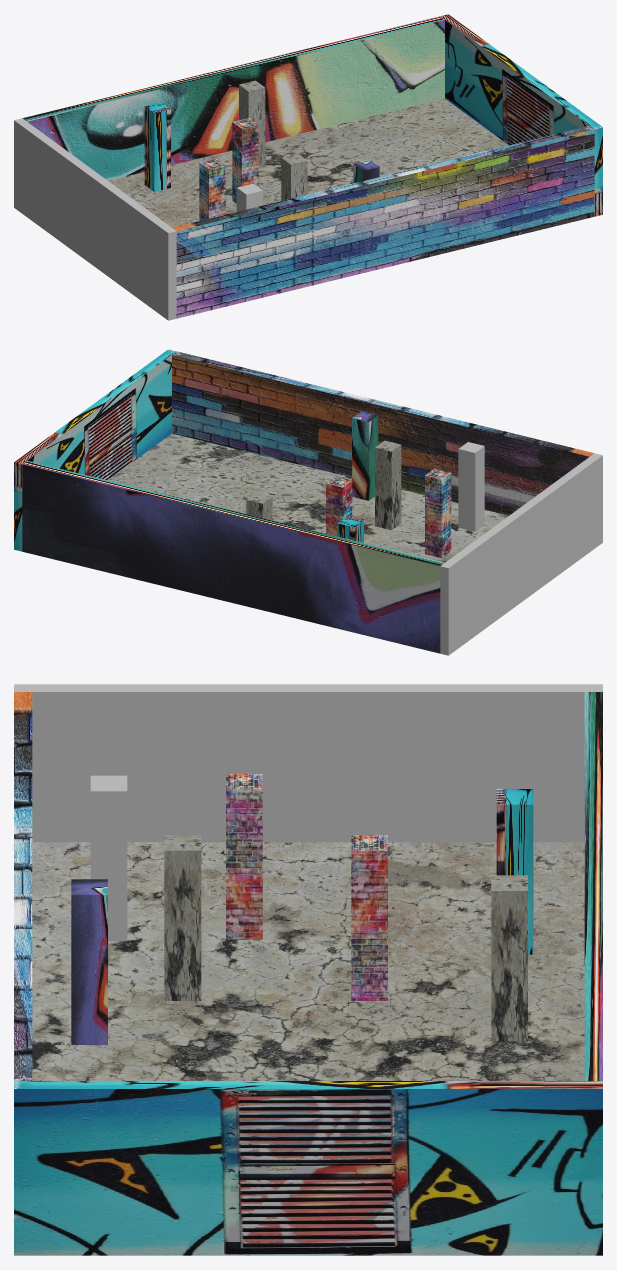
Rendered from arena_v1.dae.
3 views of the same model, one above another, from view 1: azimuth 30°, elevation 25°; view 2: azimuth 150°, elevation 25°; view 3: azimuth 270°, elevation 25° (orthographic). The views are drawn at different scales.
Parts seen in each view (by area): view 1: Cube.002, Cube.001, Cube, Cube.004, Cube.003, Cube.005, Cube.007, Cube.006, Cube.010, Cube.008, Cube.011, Cube.009; view 2: Cube.001, Cube.002, Cube.004, Cube, Cube.003, Cube.011, Cube.008, Cube.006, Cube.009, Cube.007, Cube.010, Cube.005; view 3: Cube.003, Cube, Cube.004, Cube.002, Cube.001, Cube.008, Cube.010, Cube.009, Cube.007, Cube.006, Cube.011, Cube.005.
Part boxes in pixels (bbox=[...]): Cube.002: bbox=[172, 126, 594, 318]; Cube.001: bbox=[22, 16, 444, 180]; Cube: bbox=[108, 98, 508, 227]; Cube.004: bbox=[14, 118, 176, 320]; Cube.003: bbox=[440, 14, 602, 216]; Cube.005: bbox=[144, 102, 170, 191]; Cube.007: bbox=[232, 118, 258, 203]; Cube.006: bbox=[199, 158, 225, 220]; Cube.010: bbox=[239, 80, 265, 167]; Cube.008: bbox=[281, 154, 307, 200]; Cube.011: bbox=[236, 183, 263, 211]; Cube.009: bbox=[353, 160, 379, 183]; Cube.001: bbox=[22, 461, 444, 653]; Cube.002: bbox=[172, 351, 594, 515]; Cube.004: bbox=[440, 453, 602, 655]; Cube: bbox=[108, 433, 508, 562]; Cube.003: bbox=[14, 349, 176, 551]; Cube.011: bbox=[458, 442, 484, 531]; Cube.008: bbox=[375, 440, 401, 530]; Cube.006: bbox=[425, 468, 451, 557]; Cube.009: bbox=[352, 411, 378, 500]; Cube.007: bbox=[326, 476, 352, 536]; Cube.010: bbox=[246, 493, 272, 520]; Cube.005: bbox=[337, 516, 363, 542]; Cube.003: bbox=[14, 1081, 602, 1255]; Cube: bbox=[32, 842, 584, 1080]; Cube.004: bbox=[14, 684, 602, 842]; Cube.002: bbox=[14, 692, 32, 1080]; Cube.001: bbox=[584, 692, 602, 1080]; Cube.008: bbox=[164, 835, 201, 1000]; Cube.010: bbox=[491, 875, 527, 1040]; Cube.009: bbox=[71, 879, 107, 1044]; Cube.007: bbox=[351, 835, 387, 1000]; Cube.006: bbox=[226, 774, 262, 939]; Cube.011: bbox=[90, 775, 127, 941]; Cube.005: bbox=[496, 789, 533, 954].
Size of the model in its own units: 26 by 16 by 5.
